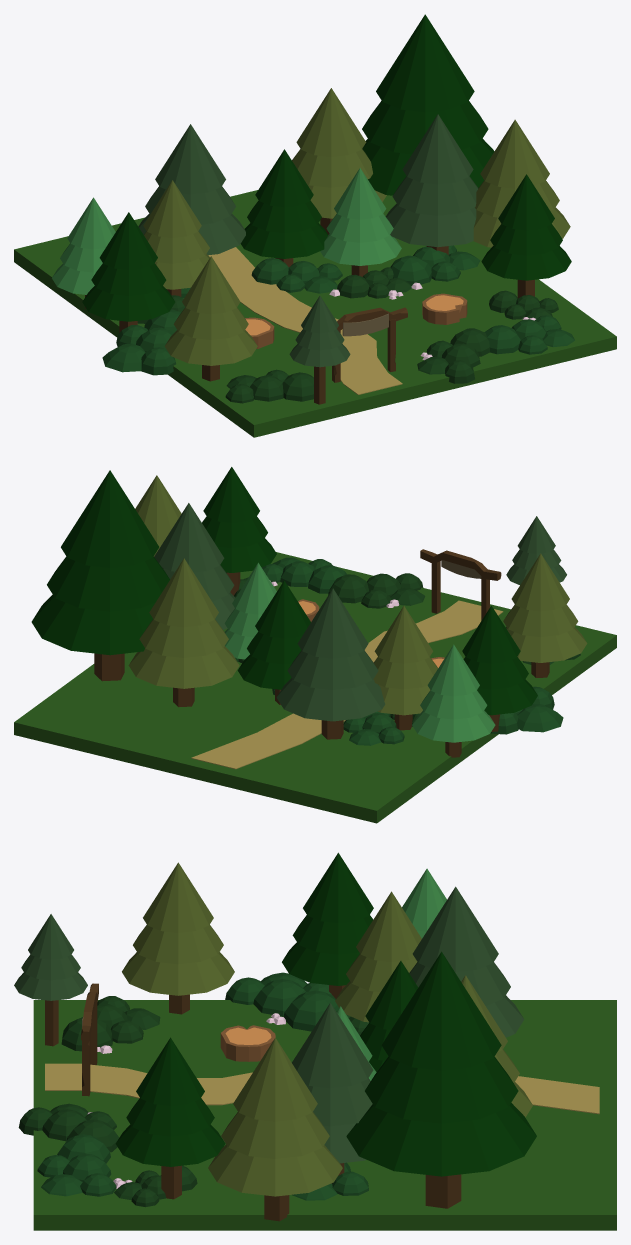
Rendered from Hutan Pinus.fbx.
The picture shows the model from 3 angles, top to bottom: view 1: azimuth 30°, elevation 25°; view 2: azimuth 150°, elevation 25°; view 3: azimuth 270°, elevation 25°; orthographic projection. The views are drawn at different scales.
Parts seen in each view (by area): view 1: Ground, Pine Wood.008, Pine Wood.007, Pine Wood.012, Pine Wood.001, Pine Wood.004, Pine Wood.010, Pine Wood.005, road, Pine Wood.002, Pine Wood.009, Pine Wood.006 (+15 smaller); view 2: Ground, Pine Wood.008, Pine Wood.002, Pine Wood.005, Pine Wood.012, road, Pine Wood.003, Pine Wood, Pine Wood.001, Pine Wood.010, Pine Wood.004, Pine Wood.007 (+8 smaller); view 3: Ground, Pine Wood.008, Pine Wood.009, Pine Wood.012, Pine Wood.010, Pine Wood.001, Pine Wood.007, Pine Wood.002, road, Pine Wood, Pine Wood.011, Sphere.003 (+10 smaller).
Boxes of the visible parts, x1,y1,x2,y2 form: Ground: (14, 190, 616, 437); Pine Wood.008: (362, 14, 494, 195); Pine Wood.007: (385, 114, 478, 254); Pine Wood.012: (164, 256, 257, 381); Pine Wood.001: (82, 212, 175, 332); Pine Wood.004: (240, 149, 327, 266); Pine Wood.010: (481, 174, 571, 298); Pine Wood.005: (292, 88, 386, 234); road: (208, 247, 402, 394); Pine Wood.002: (138, 124, 245, 255); Pine Wood.009: (473, 119, 570, 247); Pine Wood.006: (320, 168, 401, 276); Ground: (14, 552, 616, 823); Pine Wood.008: (31, 470, 169, 681); Pine Wood.002: (276, 588, 385, 739); Pine Wood.005: (128, 558, 239, 707); Pine Wood.012: (503, 553, 587, 677); road: (191, 600, 503, 769); Pine Wood.003: (412, 644, 495, 757); Pine Wood: (373, 606, 437, 730); Pine Wood.001: (462, 605, 537, 731); Pine Wood.010: (202, 467, 276, 595); Pine Wood.004: (237, 580, 310, 704); Pine Wood.007: (154, 503, 235, 629); Ground: (33, 1000, 616, 1230); Pine Wood.008: (346, 951, 536, 1208); Pine Wood.009: (208, 1038, 342, 1221); Pine Wood.012: (122, 862, 234, 1014); Pine Wood.010: (115, 1037, 225, 1199); Pine Wood.001: (282, 852, 373, 998); Pine Wood.007: (292, 1002, 373, 1183); Pine Wood.002: (409, 886, 524, 1037); road: (45, 1063, 599, 1114); Pine Wood: (335, 891, 421, 1022); Pine Wood.011: (14, 914, 87, 1046); Sphere.003: (225, 972, 338, 1031).
Bounding box in the file's own units: 5752 × 2634 × 5434.
